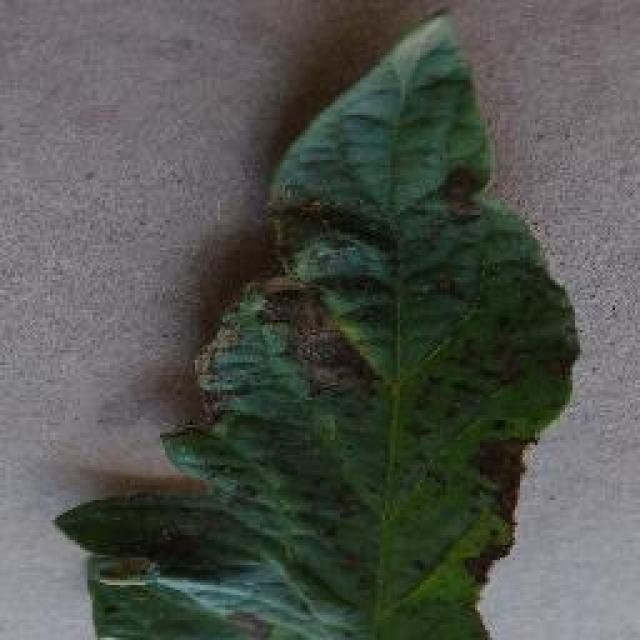Tomato Early blight leaf: (62, 7, 579, 640)
